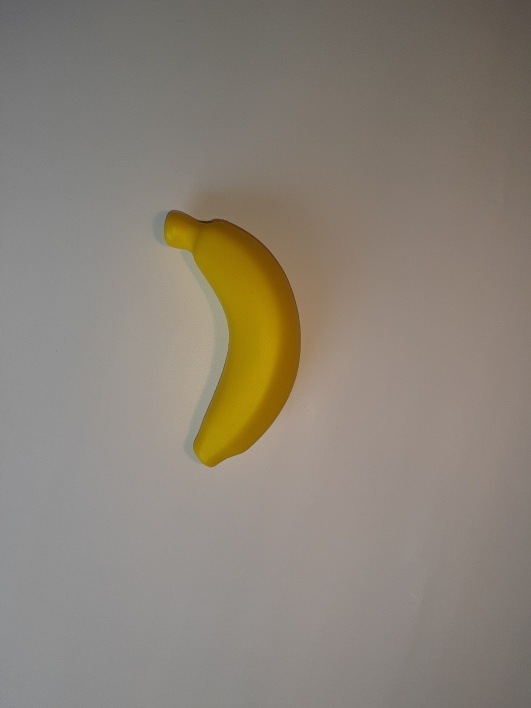banana: (166, 211, 298, 316)
